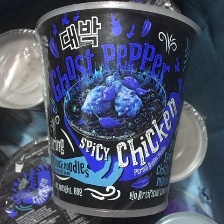paper_cup: (29, 0, 207, 222)
